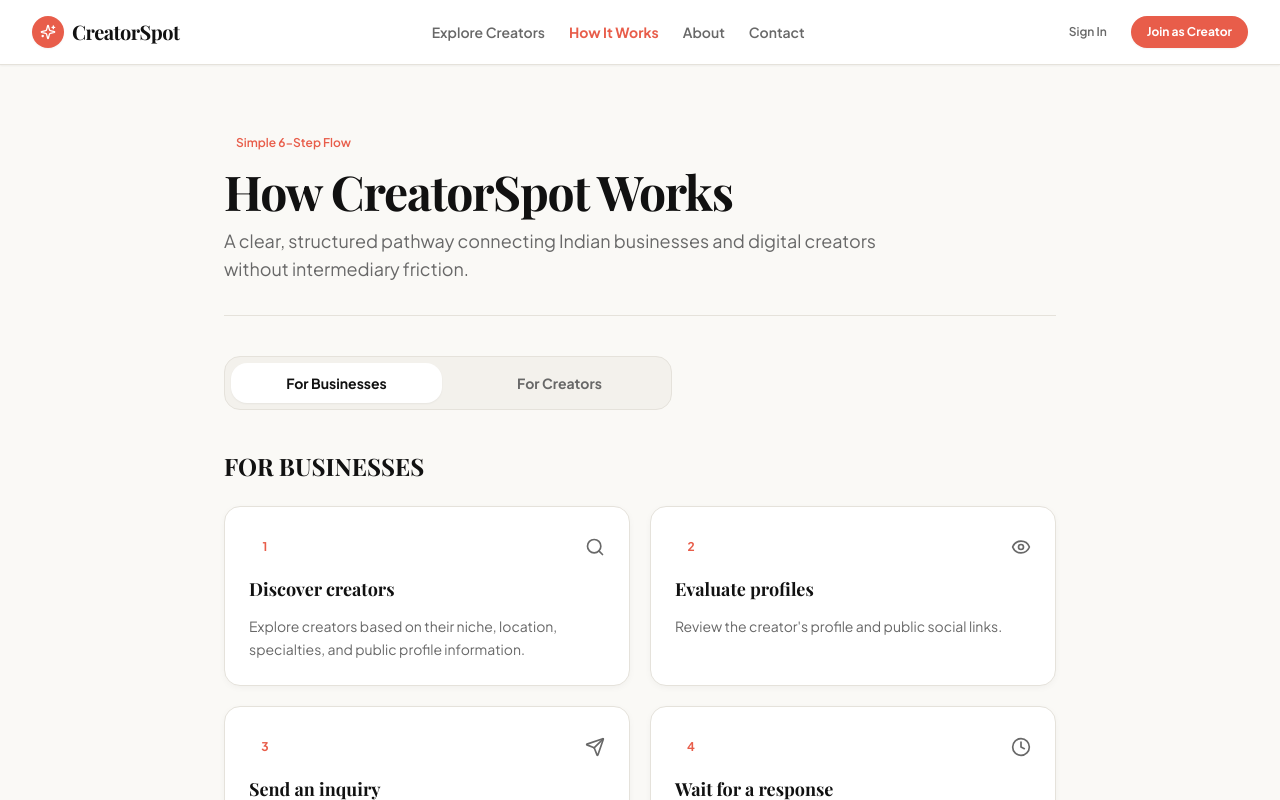
Scenario: CreatorSpot Public Pages & Legal Documentation Tests › 5. /how-it-works route renders both Business and Creator flows with toggle
This screenshot has width=1280, height=800.
Expected: the heading "How CreatorSpot Works" is shown, [224,159,733,223]
Expected: the heading "FOR BUSINESSES" is shown, [224,450,424,482]
Note: Switch to Creator tab
Click the button "For Creators": {"x": 560, "y": 383} [454,363,665,403]
(page scrolled)
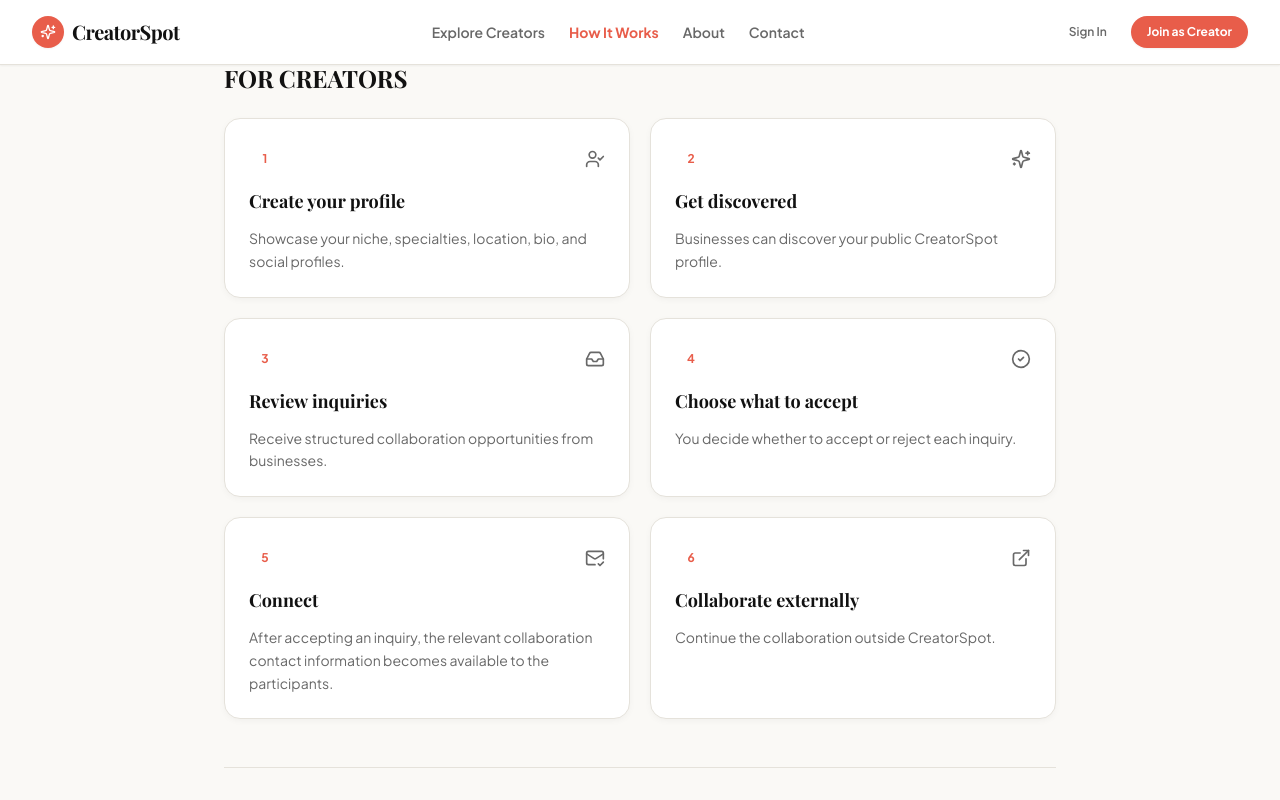
Expected: the heading "FOR CREATORS" is shown, [224,62,407,94]
Expected: the heading "Create your profile" is shown, [249,189,405,213]
Expected: the heading "Get discovered" is shown, [675,189,797,213]
